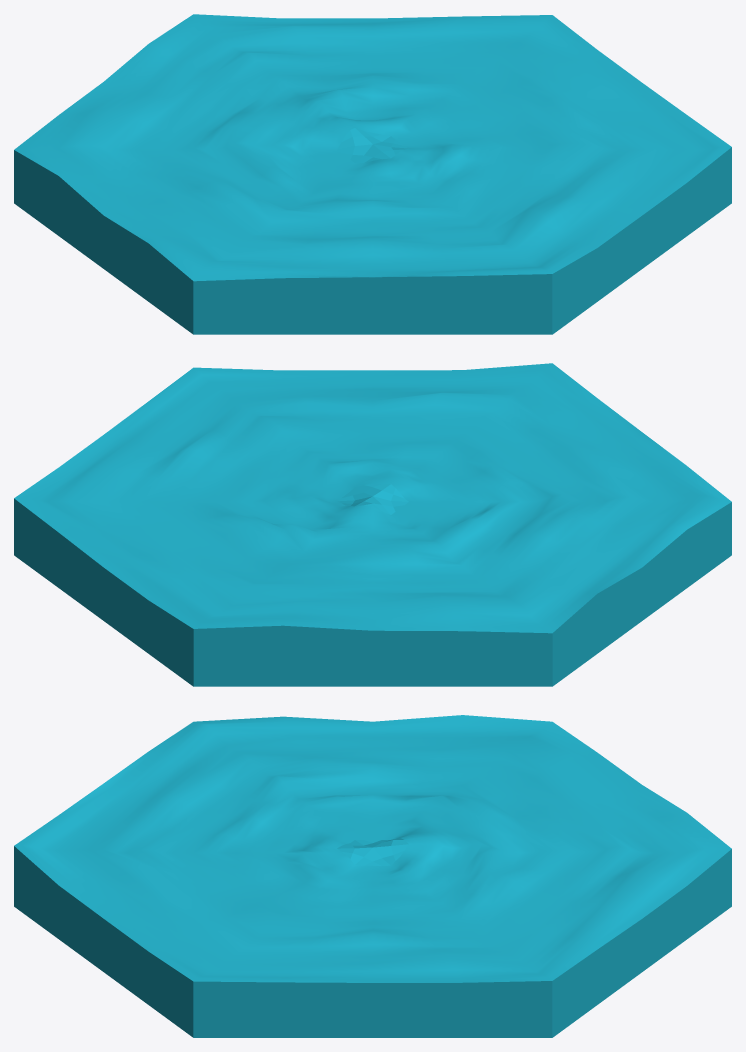
The model's file is waterhex 1.fbx.
The picture shows the model from 3 angles, top to bottom: view 1: azimuth 30°, elevation 25°; view 2: azimuth 150°, elevation 25°; view 3: azimuth 270°, elevation 25°; orthographic projection.
Visible parts, largest first — view 1: Cylinder; view 2: Cylinder; view 3: Cylinder.
Boxes of the visible parts, x1=… form: Cylinder: x1=14, y1=14, x2=731, y2=334; Cylinder: x1=14, y1=363, x2=731, y2=686; Cylinder: x1=14, y1=715, x2=731, y2=1037.
Size of the model in its own units: 173 by 20.12 by 200.
